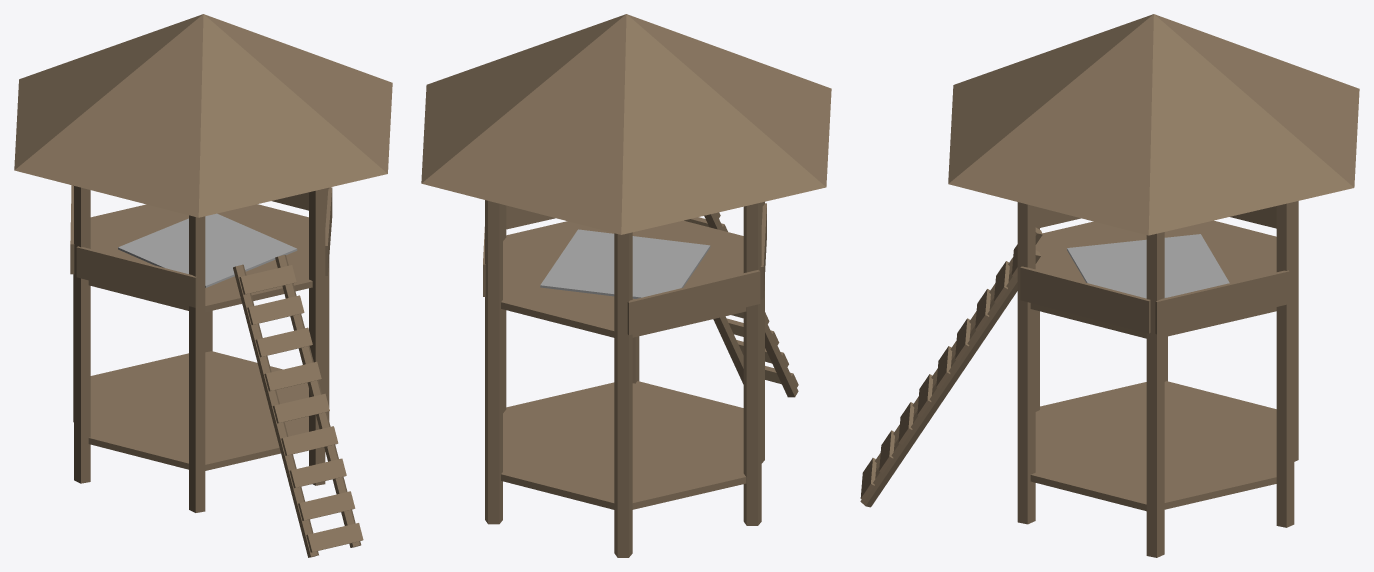
File: SM_Hut-2_Round_01.fbx
3 renders of one model, left to right at view 1: azimuth 30°, elevation 25°; view 2: azimuth 150°, elevation 25°; view 3: azimuth 270°, elevation 25°, orthographic. The views are drawn at different scales.
Visible parts, largest first — view 1: polySurface77; view 2: polySurface77; view 3: polySurface77.
Part boxes in pixels (x1,y1,x2,y2): polySurface77: (14, 14, 392, 557); polySurface77: (421, 14, 831, 557); polySurface77: (860, 14, 1359, 557).
Bounding box in the file's own units: 7.43 × 8.42 × 7.9.
